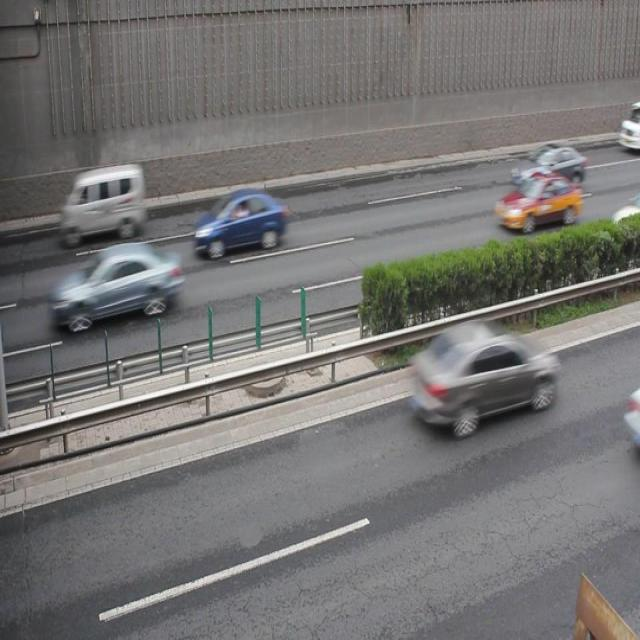car: (409, 319, 554, 435), (53, 245, 179, 331), (196, 188, 286, 258), (494, 170, 581, 234), (510, 147, 586, 192), (622, 390, 640, 443)
truck: (61, 166, 145, 244), (616, 101, 640, 153)
